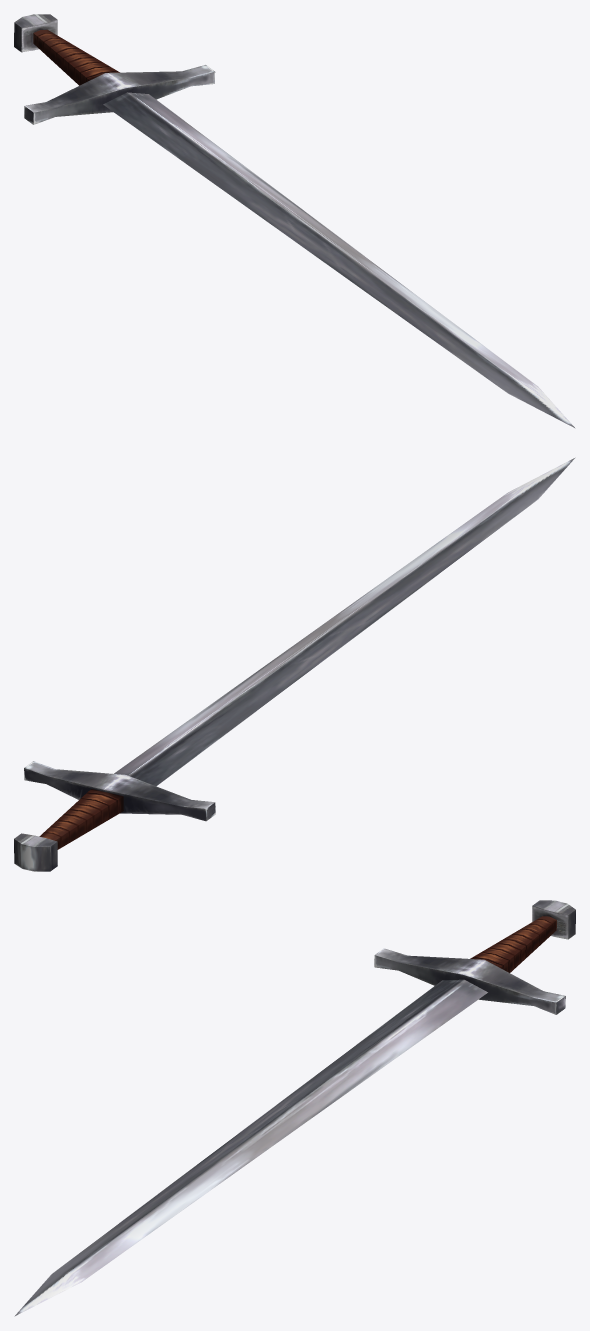
Rendered from sword01.FBX.
The picture shows the model from 3 angles, top to bottom: view 1: azimuth 30°, elevation 25°; view 2: azimuth 150°, elevation 25°; view 3: azimuth 330°, elevation 25°; orthographic projection.
Visible parts, largest first — view 1: Jian; view 2: Jian; view 3: Jian.
Boxes of the visible parts, x1,y1,x2,y2 form: Jian: (14,14,575,428); Jian: (14,457,575,871); Jian: (14,900,575,1316).
Bounding box in the file's own units: 23.01 × 3.05 × 120.
